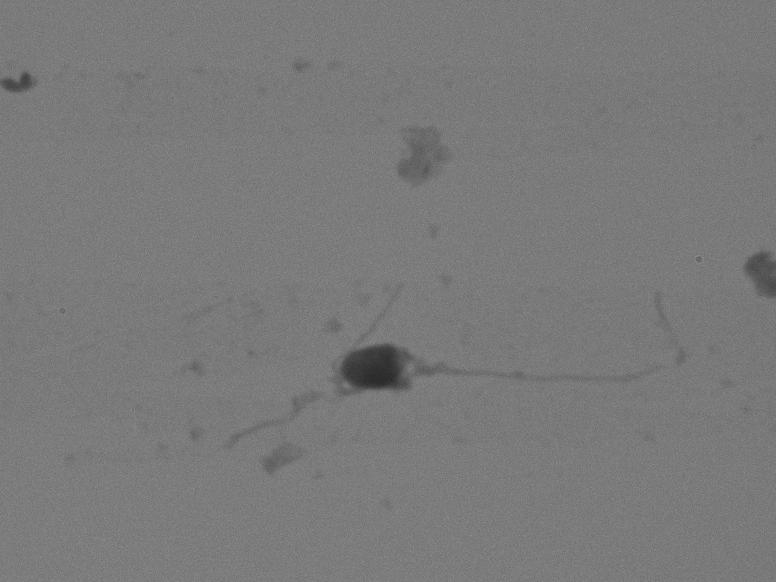Abnormal: (326, 261, 700, 440)
